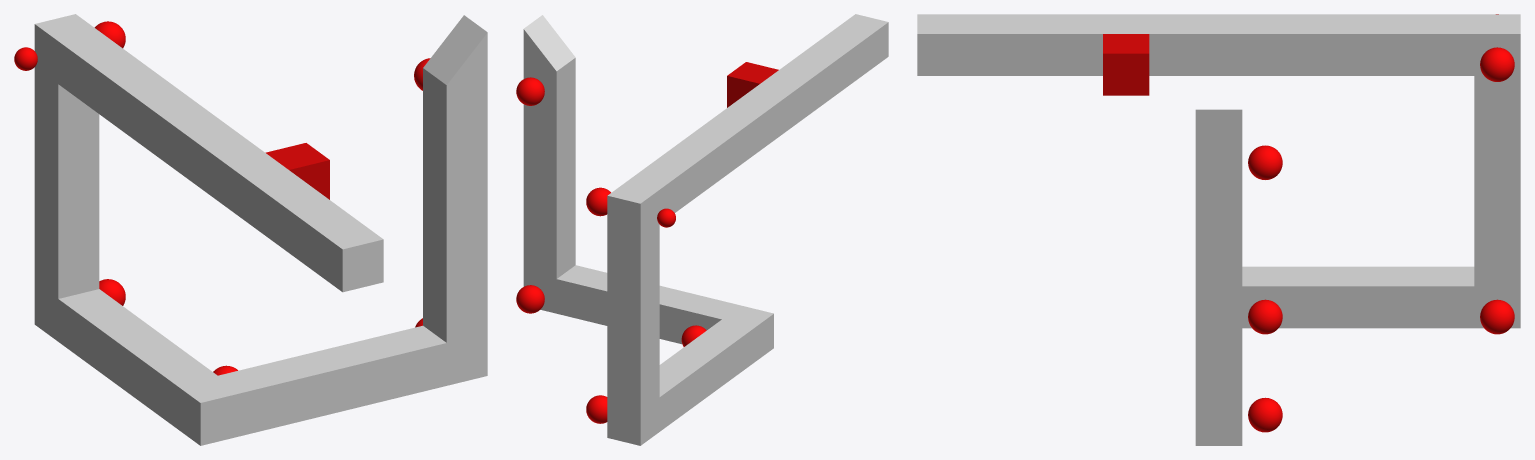
File: stage3.glb
3 renders of one model, left to right at view 1: azimuth 30°, elevation 25°; view 2: azimuth 150°, elevation 25°; view 3: azimuth 270°, elevation 25°, orthographic. The views are drawn at different scales.
Visible parts, largest first — view 1: c, c__24_, cube2, c__16_, c__17_, c__15_, c__14_, c__36_, c__32_, c__33_, c__35_, c__31_ (+28 smaller); view 2: c__12_, cube2, c__17_, c__33_, c__16_, c__32_, c__34_, c__14_, c__18_, c__13_, c__15_, c__31_ (+30 smaller); view 3: c__19_, c__1_, c__5_, c__11_, c__20_, c__21_, c__22_, corePart, c, c__2_, c__3_, c__6_ (+26 smaller).
Part boxes in pixels (<box>): c: <box>319,222,383,292</box>; c__24_: <box>177,375,241,445</box>; cube2: <box>423,15,487,84</box>; c__16_: <box>34,196,99,255</box>; c__17_: <box>34,239,99,298</box>; c__15_: <box>34,153,99,212</box>; c__14_: <box>34,110,99,169</box>; c__36_: <box>423,68,487,127</box>; c__32_: <box>423,240,487,299</box>; c__33_: <box>423,197,487,256</box>; c__35_: <box>423,111,487,170</box>; c__31_: <box>423,283,487,342</box>; c__12_: <box>607,181,659,238</box>; cube2: <box>523,15,575,71</box>; c__17_: <box>607,363,659,411</box>; c__33_: <box>523,161,575,209</box>; c__16_: <box>607,328,659,376</box>; c__32_: <box>523,196,575,244</box>; c__34_: <box>523,127,575,175</box>; c__14_: <box>607,259,659,307</box>; c__18_: <box>607,397,659,445</box>; c__13_: <box>607,224,659,272</box>; c__15_: <box>607,294,659,341</box>; c__31_: <box>523,231,575,278</box>; c__19_: <box>1427,266,1474,328</box>; c__1_: <box>963,14,1010,75</box>; c__5_: <box>1195,14,1242,75</box>; c__11_: <box>1427,14,1474,75</box>; c__20_: <box>1381,266,1427,328</box>; c__21_: <box>1335,266,1381,328</box>; c__22_: <box>1288,266,1334,328</box>; corePart: <box>1103,34,1149,95</box>; c: <box>917,14,963,75</box>; c__2_: <box>1010,14,1056,75</box>; c__3_: <box>1056,14,1102,75</box>; c__6_: <box>1149,14,1195,75</box>.
Size of the model in its own units: 7.75 by 8 by 13.
